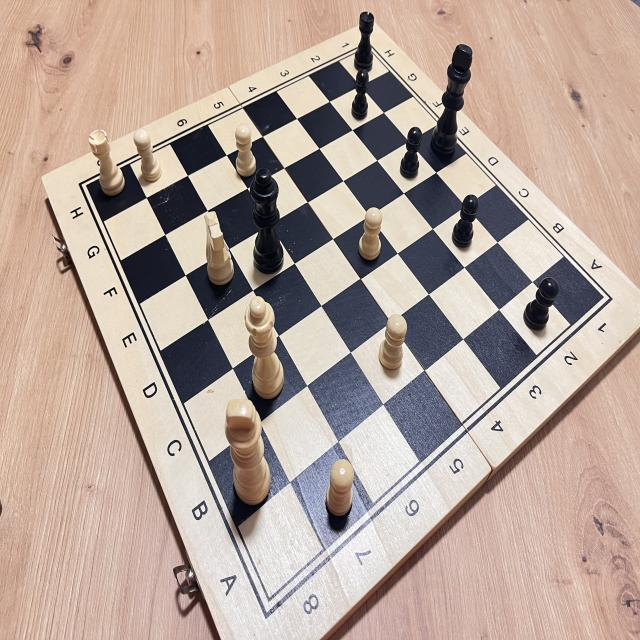black-king: (425, 41, 483, 171)
black-pawn: (519, 263, 563, 344), (450, 184, 482, 260), (397, 120, 427, 192), (346, 66, 374, 128)
black-queen: (242, 160, 296, 280)
black-rook: (344, 7, 381, 76)
white-king: (211, 392, 275, 518)
white-knight: (198, 203, 240, 300)
white-pawn: (321, 449, 359, 525), (128, 124, 168, 188), (353, 201, 389, 270), (376, 309, 411, 376), (230, 121, 264, 181)
white-queen: (237, 294, 288, 404)
white-rook: (85, 123, 128, 201)
